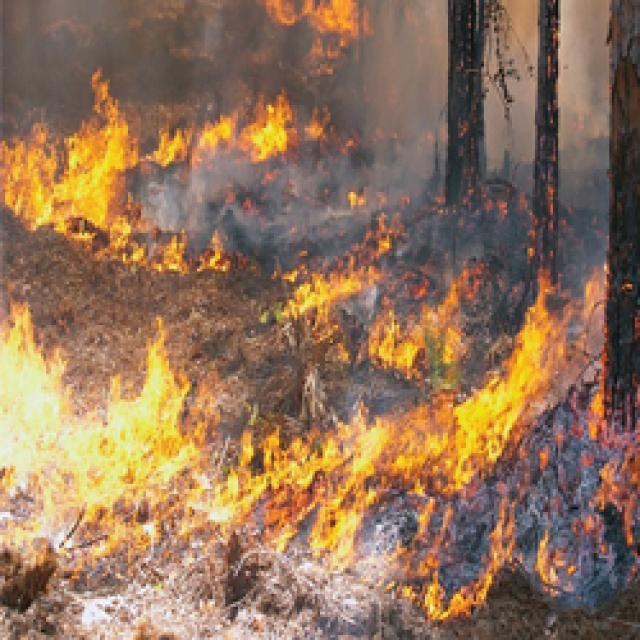Fire: (336, 240, 628, 624), (0, 258, 248, 573), (0, 54, 280, 306), (124, 72, 358, 186), (366, 246, 514, 409), (250, 220, 420, 340), (243, 0, 387, 95)
Smoke: (374, 0, 640, 176), (135, 113, 387, 251)
